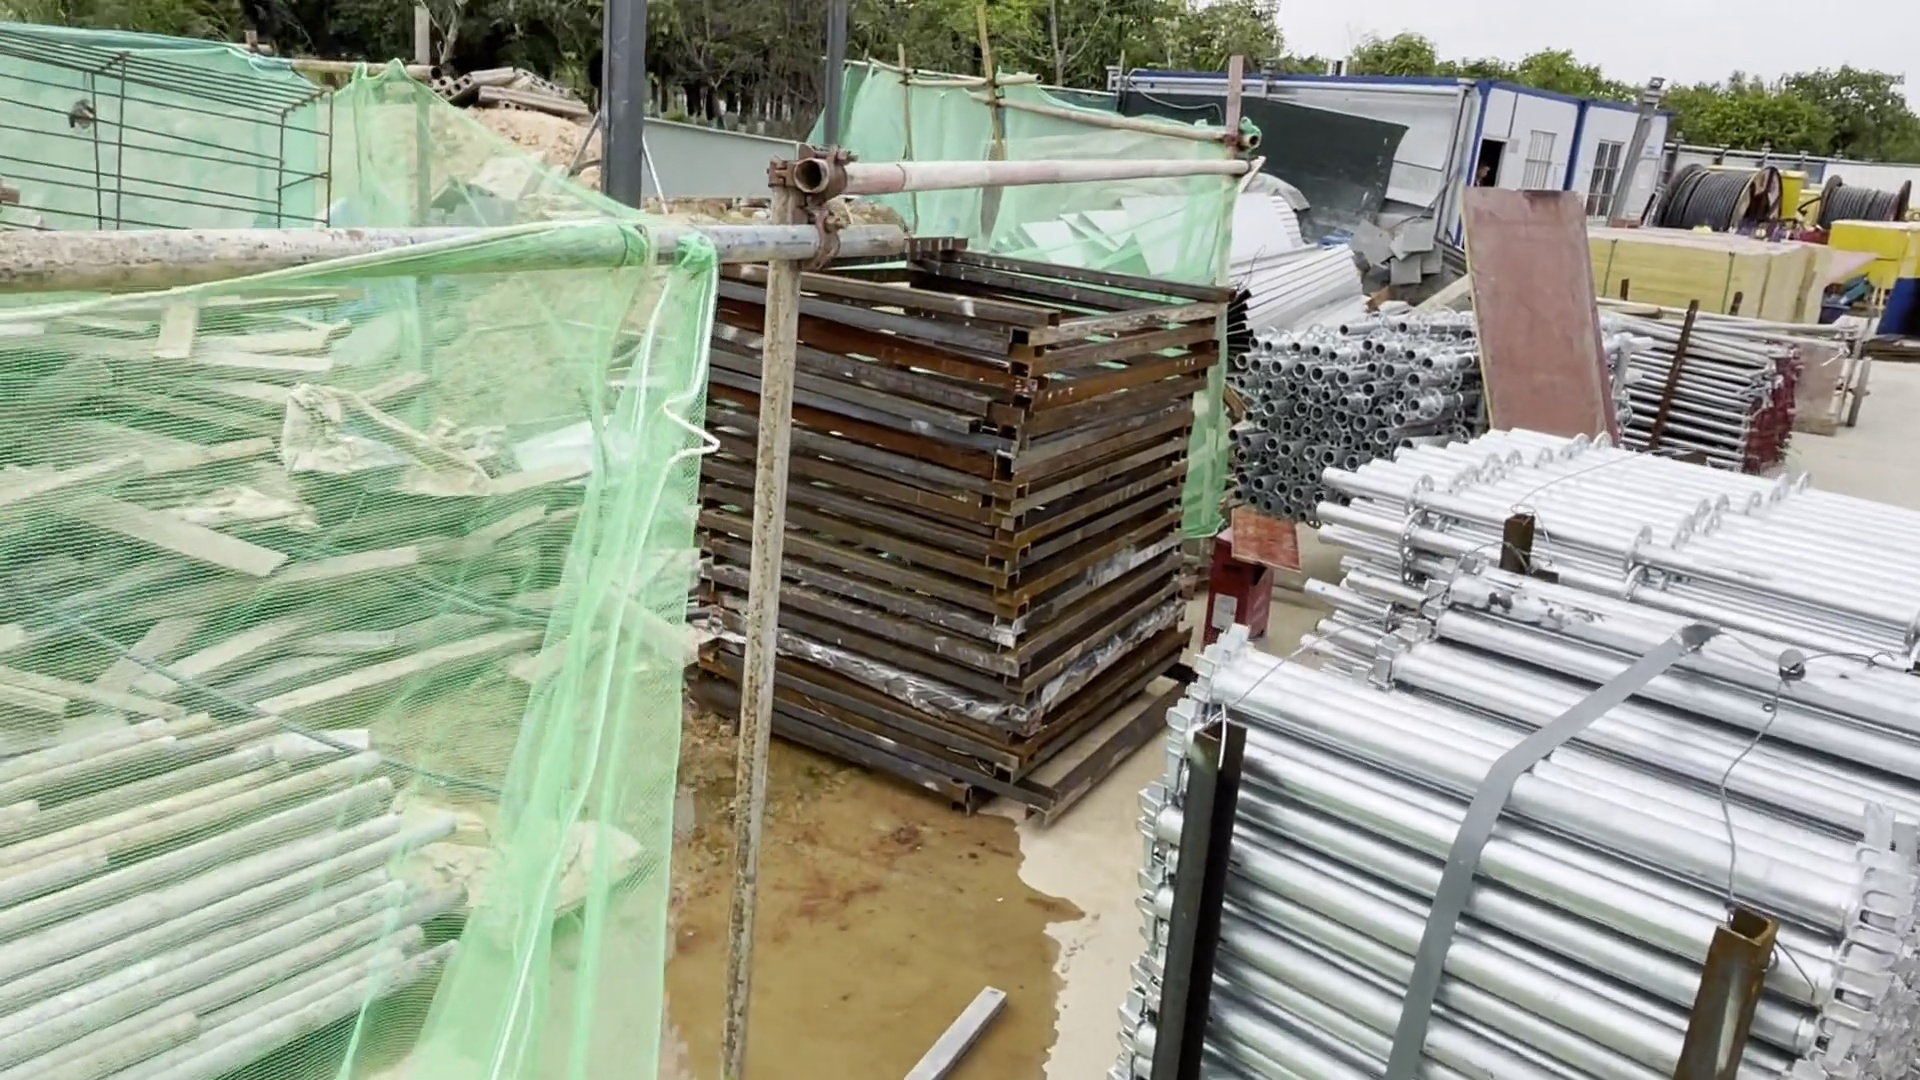scaffold: (1104, 567, 1845, 1080), (1342, 419, 1920, 736), (1215, 291, 1485, 491), (1627, 307, 1797, 469)
